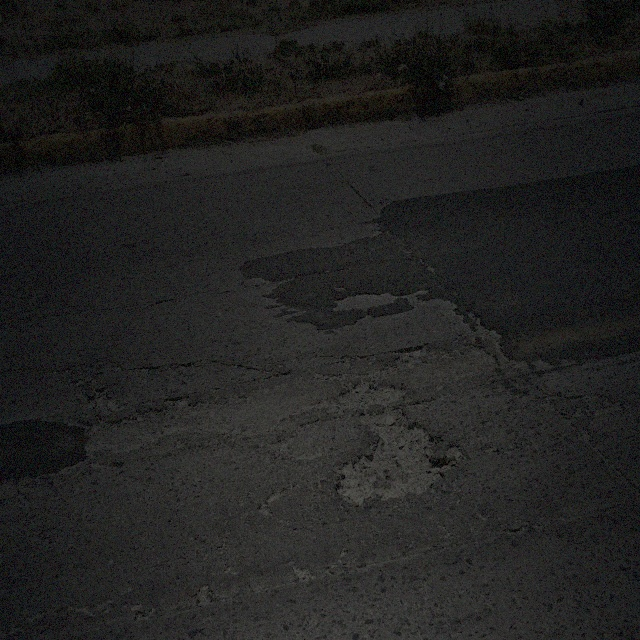pothole: (331, 394, 468, 511), (83, 393, 190, 477), (331, 379, 407, 412), (332, 285, 399, 315), (75, 380, 125, 416), (394, 343, 427, 359)
